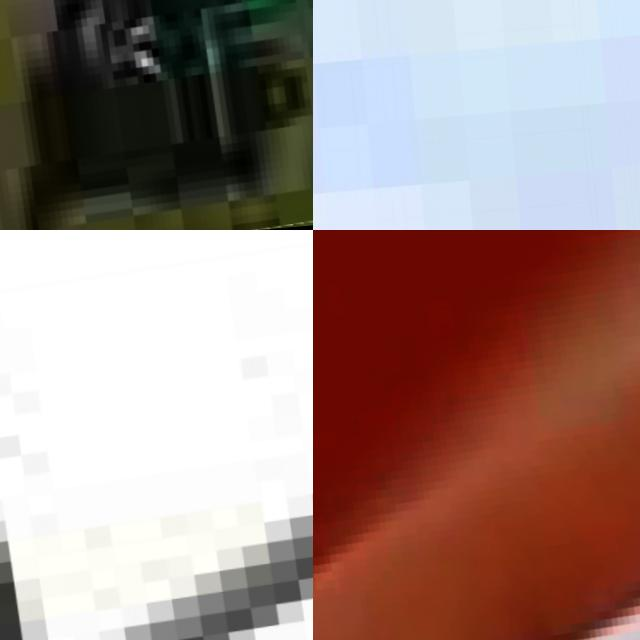0: (0, 0, 313, 230)
drone: (313, 230, 640, 640), (0, 230, 313, 640)
